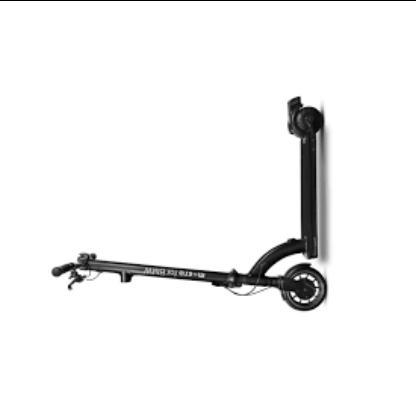bike: (49, 95, 330, 313), (51, 237, 328, 312)
